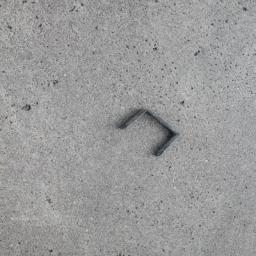FOD: (119, 105, 183, 160)
